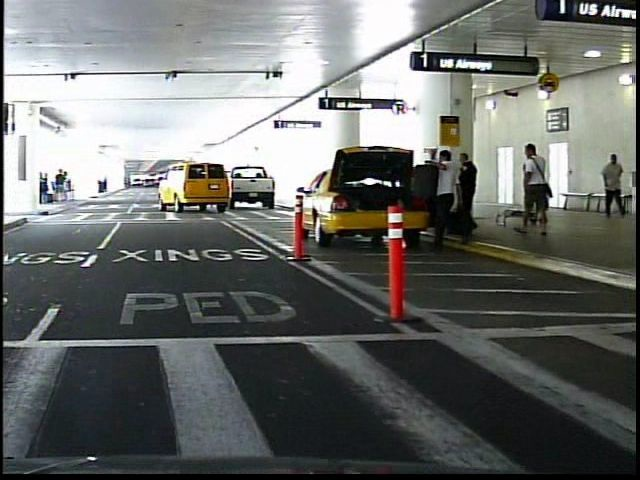person: (513, 138, 549, 240), (593, 148, 623, 220)
